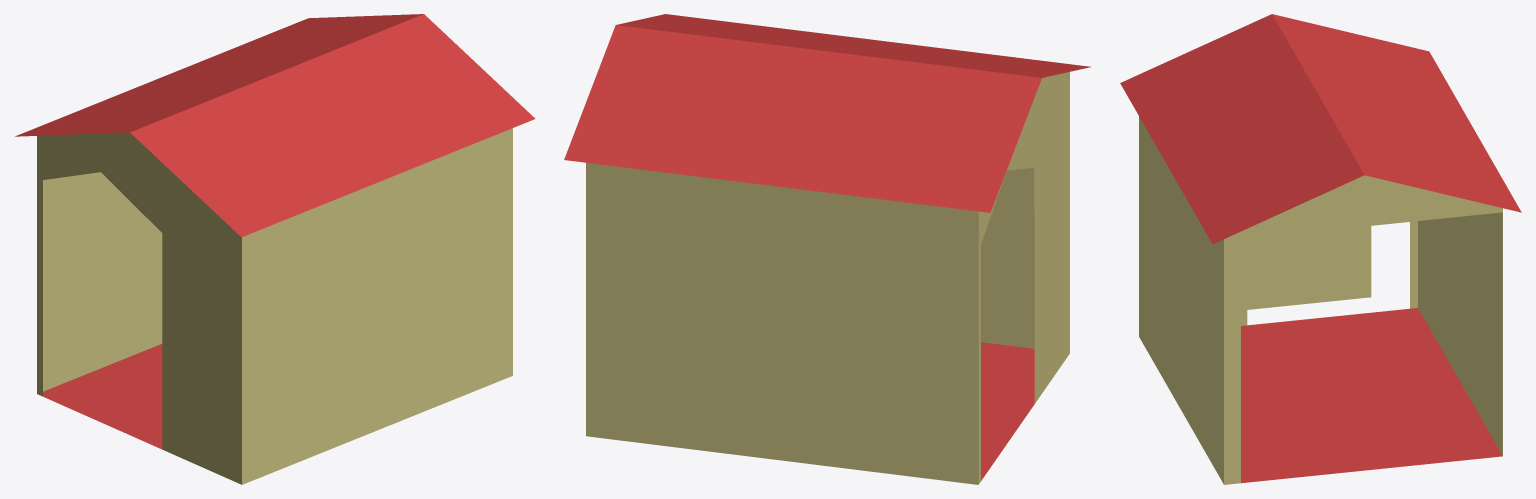
3 renders of one model, left to right at view 1: azimuth 30°, elevation 25°; view 2: azimuth 150°, elevation 25°; view 3: azimuth 270°, elevation 25°, orthographic. The views are drawn at different scales.
Bounding box in the file's own units: 14.64 × 12.89 × 10.69.
